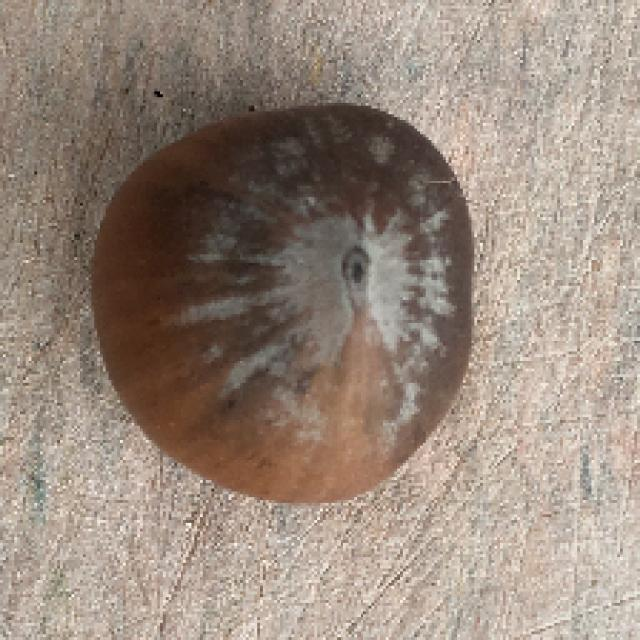DamagedHazelnut: (89, 97, 488, 504)
